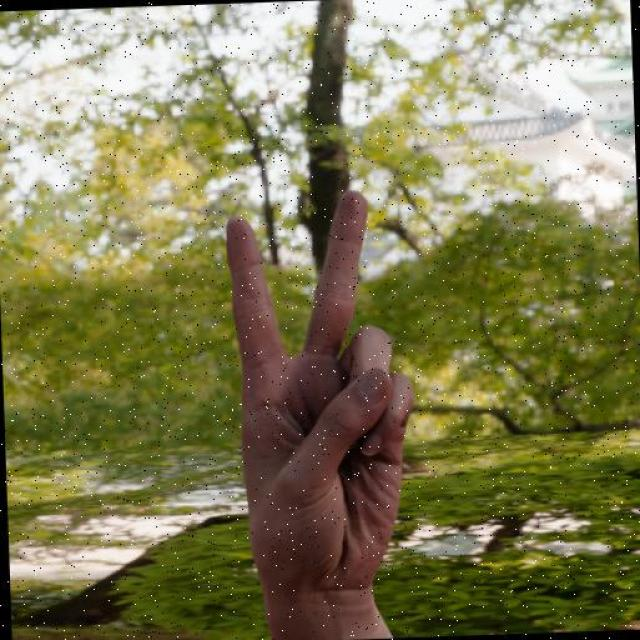V: (200, 184, 431, 614)
